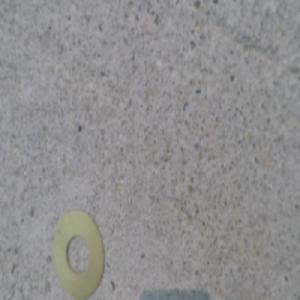Washer: (53, 210, 103, 296)
